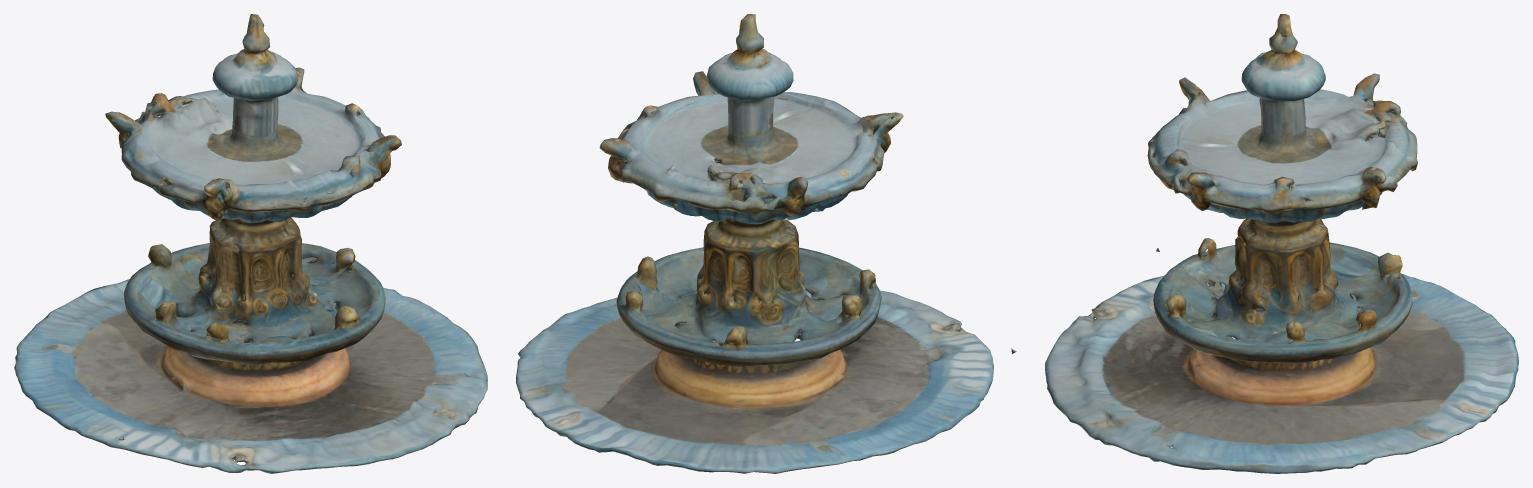
3 renders of one model, left to right at view 1: azimuth 30°, elevation 25°; view 2: azimuth 150°, elevation 25°; view 3: azimuth 270°, elevation 25°, orthographic.
Bounding box in the file's own units: 1.99 × 1.71 × 2.
Materials: 1 (1 with a texture image).
